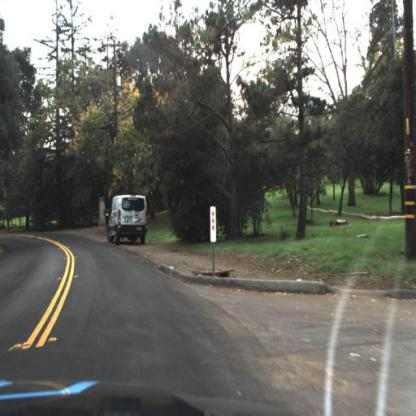truck: (106, 197, 149, 245)
